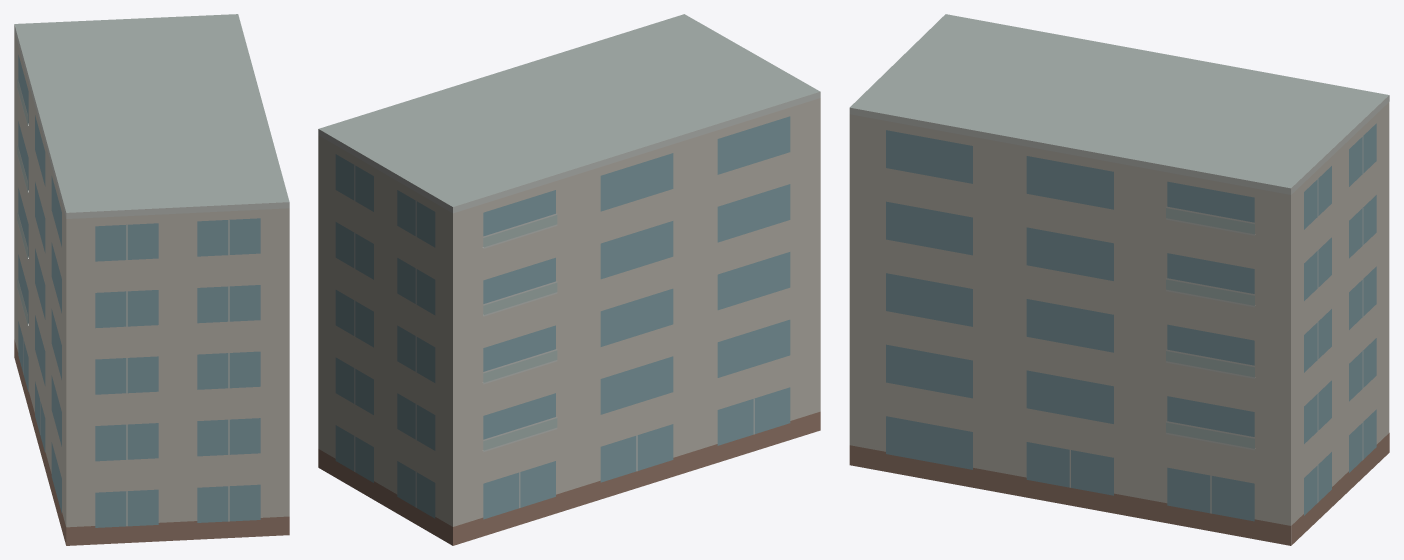
The model's file is survey-upis-33025264.glb.
3 renders of one model, left to right at view 1: azimuth 30°, elevation 25°; view 2: azimuth 150°, elevation 25°; view 3: azimuth 270°, elevation 25°, orthographic. The views are drawn at different scales.
Visible parts, largest first — view 1: survey-upis-33025264.tmp; view 2: survey-upis-33025264.tmp; view 3: survey-upis-33025264.tmp.
Boxes of the visible parts, left/top/right/bottom form: survey-upis-33025264.tmp: left=14, top=14, right=289, bottom=545; survey-upis-33025264.tmp: left=318, top=14, right=820, bottom=545; survey-upis-33025264.tmp: left=849, top=14, right=1389, bottom=545.
Size of the model in its own units: 13.76 by 13.15 by 18.01.
